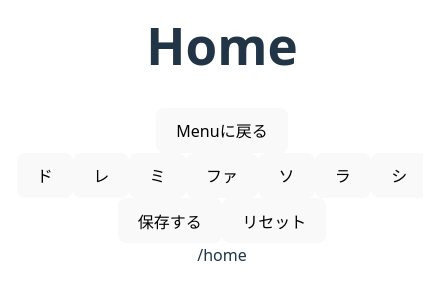
Test: ドのボタンを押すと、楽譜にドが表示される
What coordinates should you click on to do the following:
click the button "ド"
I would click on:
 (45, 176)
Its box is [17,153,73,198].
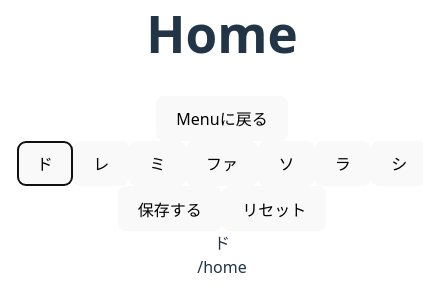
Check: the element named "gakufu-board" reads "ド", box [214,232,230,254]
